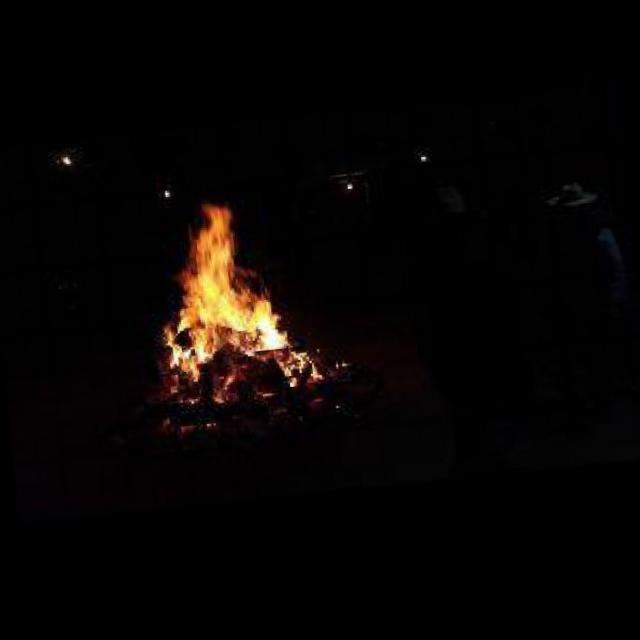fire: (144, 192, 322, 412)
